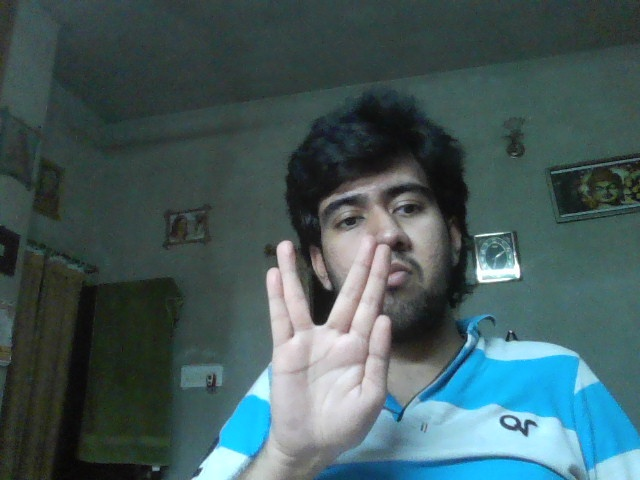LiveLong: (266, 234, 391, 457)
